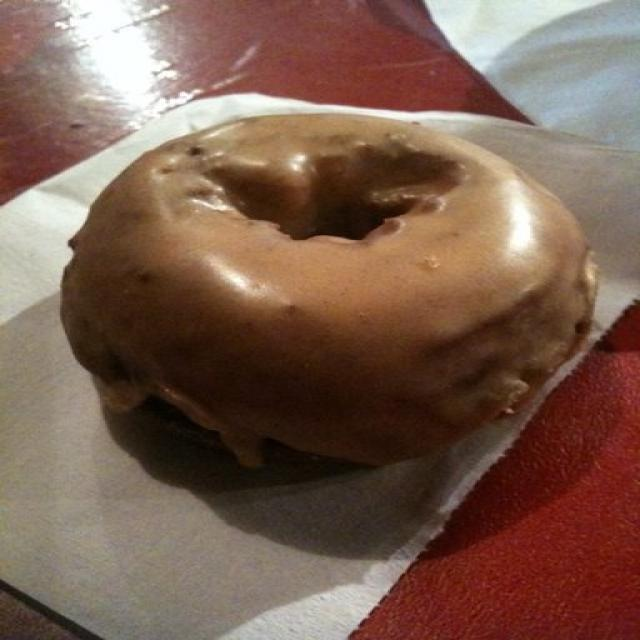Donuts: (60, 92, 608, 530)
